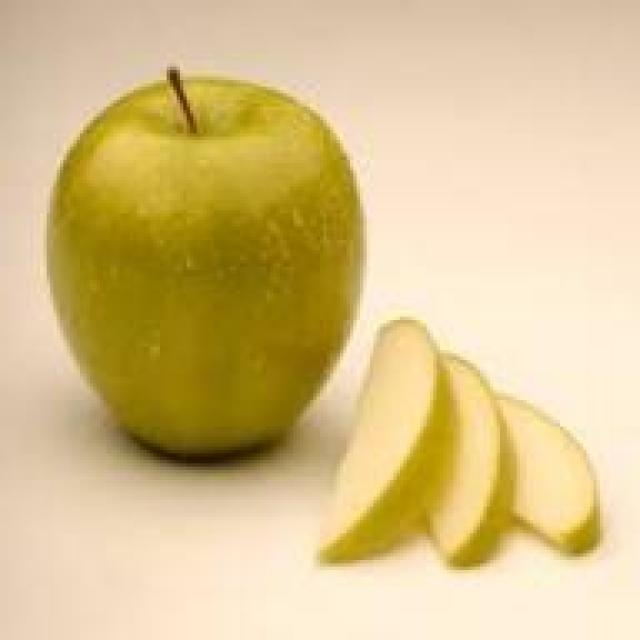apple: (40, 80, 363, 460)
